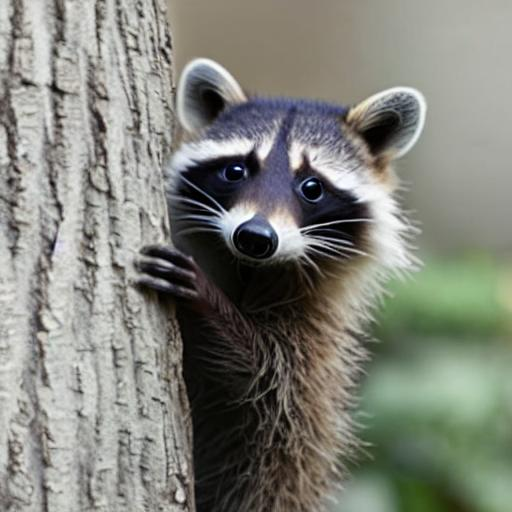raccoon: (170, 52, 425, 512)
